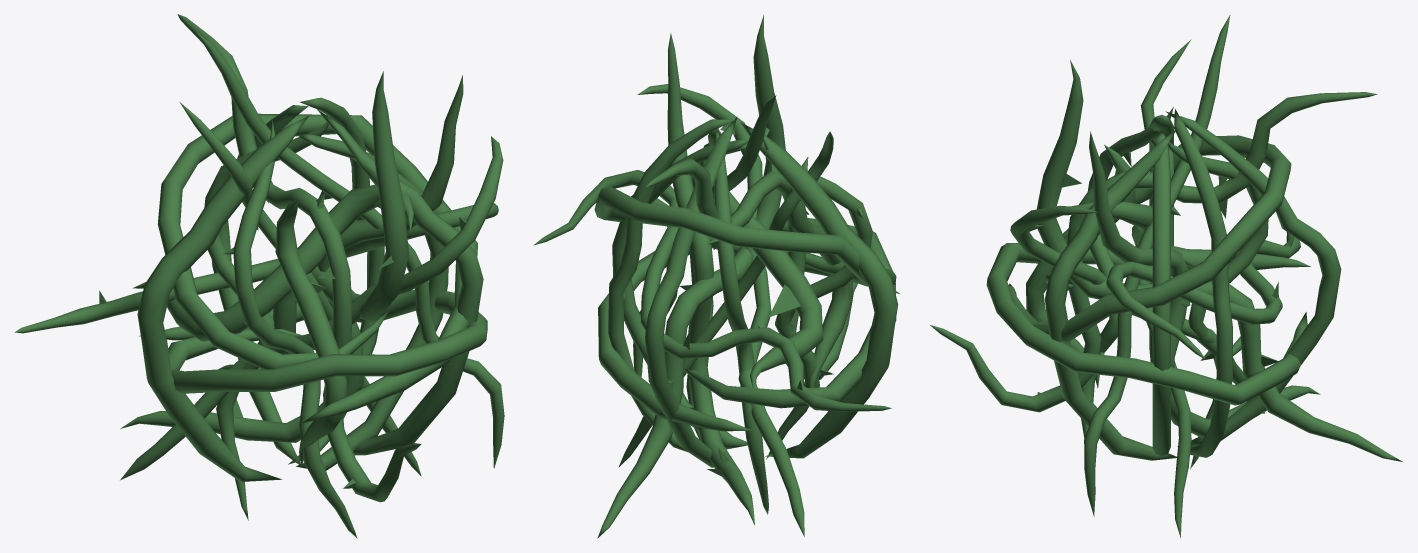
File: Bola.fbx
3 views of the same model, side by side, from view 1: azimuth 30°, elevation 25°; view 2: azimuth 150°, elevation 25°; view 3: azimuth 270°, elevation 25° (orthographic). The views are drawn at different scales.
Visible parts, largest first — view 1: Rama_9, Rama_1, Rama_6, Rama_13, Rama_3, Rama_12, Rama_17, Rama_15, Rama_14, Rama_7, Rama_16, Rama_5 (+6 smaller); view 2: Rama_1, Rama_12, Rama_6, Rama_9, Rama_10, Rama_14, Rama_4, Rama_7, Rama_8, Rama_16, Rama_18, Rama_13 (+6 smaller); view 3: Rama_6, Rama_12, Rama_9, Rama_13, Rama_3, Rama_4, Rama_8, Rama_15, Rama_2, Rama_10, Rama_14, Rama_11 (+6 smaller).
Part boxes in pixels (box(x1,y1,x2,y2)): Rama_9: box(157, 113, 477, 423); Rama_1: box(137, 115, 309, 481); Rama_6: box(139, 289, 487, 393); Rama_13: box(177, 14, 421, 502); Rama_3: box(316, 108, 483, 455); Rama_12: box(218, 71, 409, 369); Rama_17: box(222, 121, 357, 538); Rama_15: box(195, 31, 504, 468); Rama_14: box(120, 75, 463, 442); Rama_7: box(120, 136, 503, 480); Rama_16: box(132, 184, 413, 341); Rama_5: box(275, 199, 346, 466); Rama_1: box(740, 122, 898, 458); Rama_12: box(597, 15, 785, 538); Rama_6: box(598, 218, 896, 431); Rama_9: box(594, 186, 899, 293); Rama_10: box(533, 170, 891, 411); Rama_14: box(667, 33, 754, 525); Rama_4: box(645, 116, 737, 467); Rama_7: box(637, 84, 804, 536); Rama_8: box(608, 119, 735, 451); Rama_16: box(701, 145, 823, 390); Rama_18: box(707, 132, 768, 514); Rama_13: box(645, 158, 857, 379); Rama_6: box(986, 243, 1307, 405); Rama_12: box(1036, 60, 1402, 461); Rama_9: box(1008, 135, 1291, 342); Rama_13: box(930, 92, 1377, 412); Rama_3: box(1044, 130, 1176, 460); Rama_4: box(1165, 111, 1341, 446); Rama_8: box(1174, 109, 1232, 457); Rama_15: box(1084, 15, 1230, 516); Rama_2: box(1152, 129, 1170, 456); Rama_10: box(1106, 231, 1300, 359); Rama_14: box(1089, 131, 1320, 438); Rama_11: box(1135, 39, 1191, 538).
Bounding box in the file's own units: 0.3935 × 0.4192 × 0.4076.
